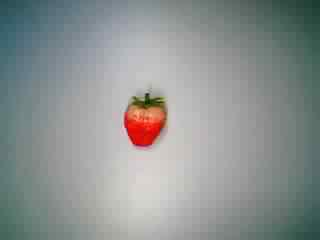strawberry: (101, 88, 174, 155)
